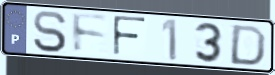1: (160, 17, 178, 63)
3: (192, 20, 225, 65)
D: (227, 23, 269, 67)
F: (70, 11, 111, 56), (112, 14, 149, 59)
S: (32, 9, 69, 54)
